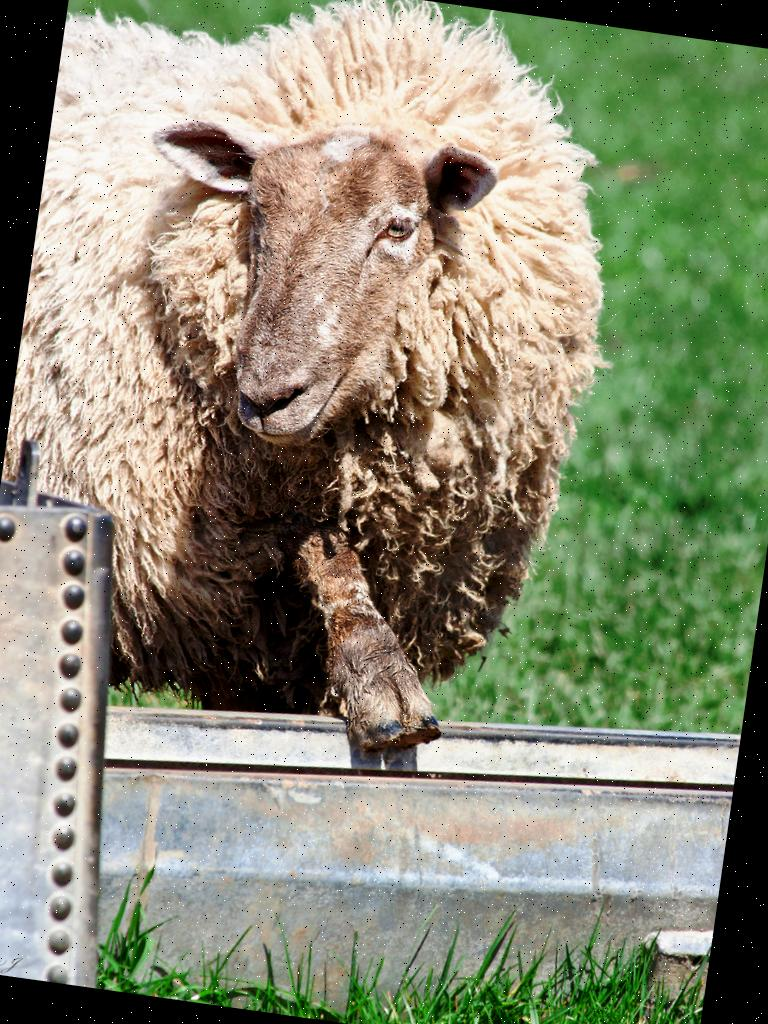Sheep: (0, 0, 649, 781)
